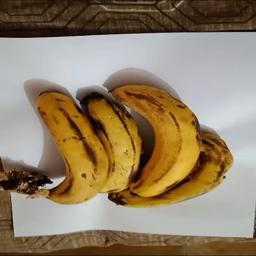Banana Semifresh: (23, 82, 227, 212)
